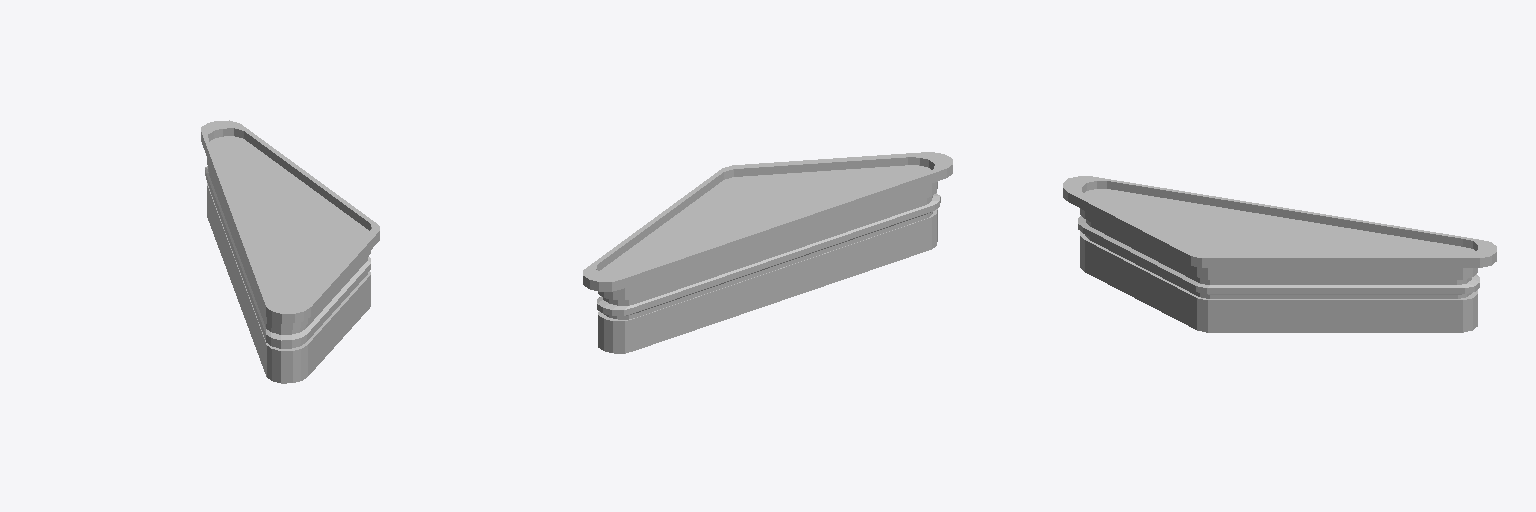
Rendered from slingshot_r.obj.
3 renders of one model, left to right at view 1: azimuth 30°, elevation 25°; view 2: azimuth 150°, elevation 25°; view 3: azimuth 270°, elevation 25°, orthographic.
Parts seen in each view (by area): view 1: Mesh; view 2: Mesh; view 3: Mesh.
Boxes of the visible parts, box(x1,y1,x2,y2) form: Mesh: box(201, 120, 379, 383); Mesh: box(583, 152, 952, 353); Mesh: box(1063, 176, 1496, 332).
Size of the model in its own units: 1.15 by 0.5021 by 2.55.